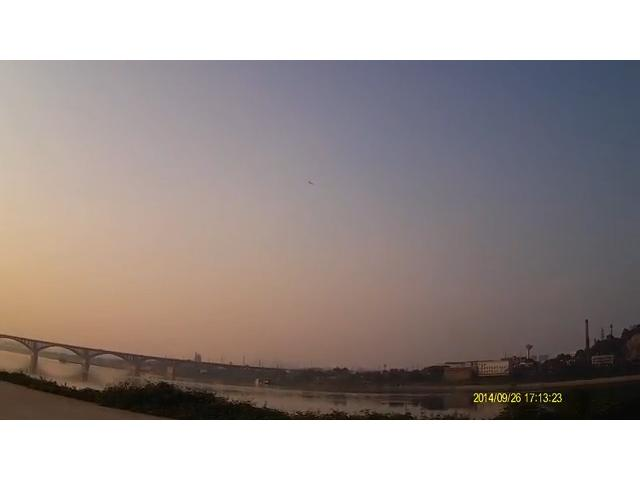Anti-Drone: (300, 175, 334, 200)
